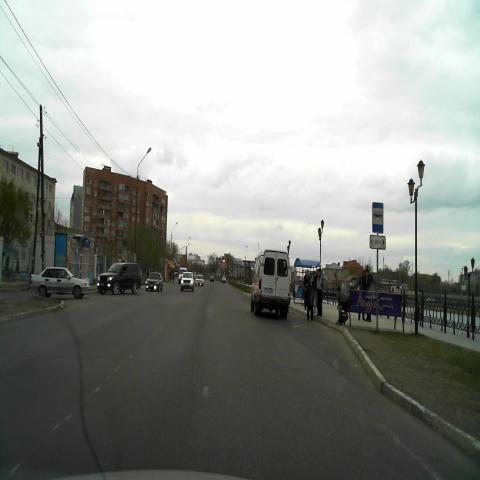8_2_1: (369, 234, 385, 249)
